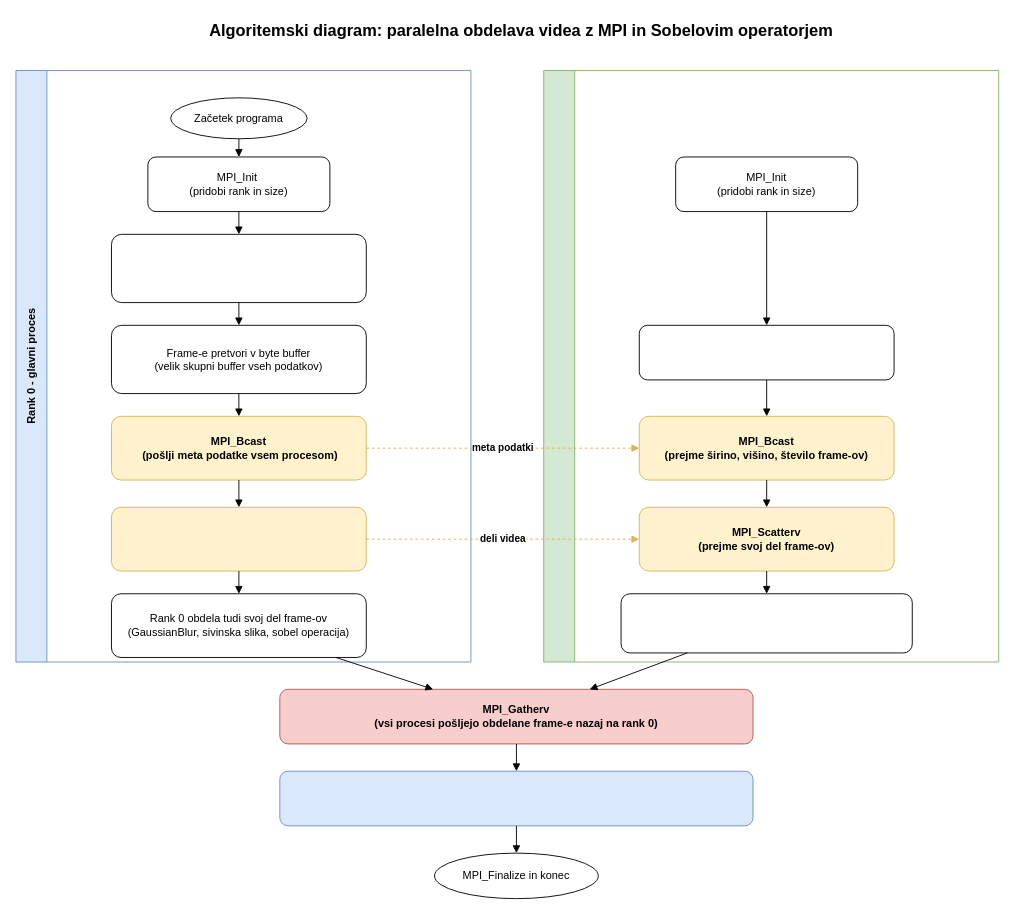
Image size: 1015x915. Some labels were removed from this diagram. The shapes that lost their labels are listed below. From the top down, each one's box as (x1, y1, x2, y2) in pixels, then its label:
(111, 233, 366, 303): Odpri vhodni video (preberi frame-e, širino, višino, FPS)
(638, 324, 894, 380): Čaka na podatke od rank 0
(543, 70, 999, 662): Rank 1 ... N - delovni procesi
(111, 506, 366, 571): MPI_Scatterv (razdeli frame-e med procese)
(620, 593, 912, 653): Obdelava lokalnih frame-ov (GaussianBlur, sivinska slika, sobel operacija)
(279, 770, 753, 826): Rank 0 sestavi rezultate v pravilnem vrstnem redu in predvaja izhodni video
